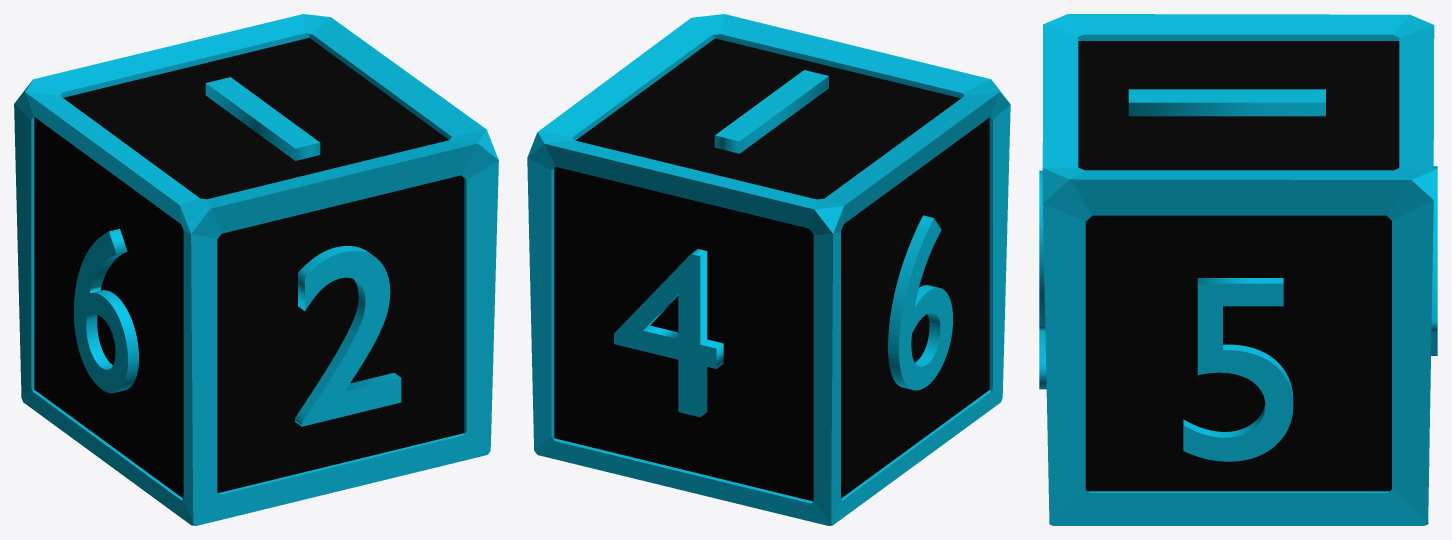
File: NormalDice.fbx
3 renders of one model, left to right at view 1: azimuth 30°, elevation 25°; view 2: azimuth 150°, elevation 25°; view 3: azimuth 270°, elevation 25°, orthographic. The views are drawn at different scales.
Visible parts, largest first — view 1: Cube; view 2: Cube; view 3: Cube.
Part boxes in pixels (x1=…): Cube: x1=14, y1=14, x2=498, y2=525; Cube: x1=527, y1=14, x2=1010, y2=525; Cube: x1=1039, y1=14, x2=1437, y2=525.
Bounding box in the file's own units: 210 × 207 × 210.
